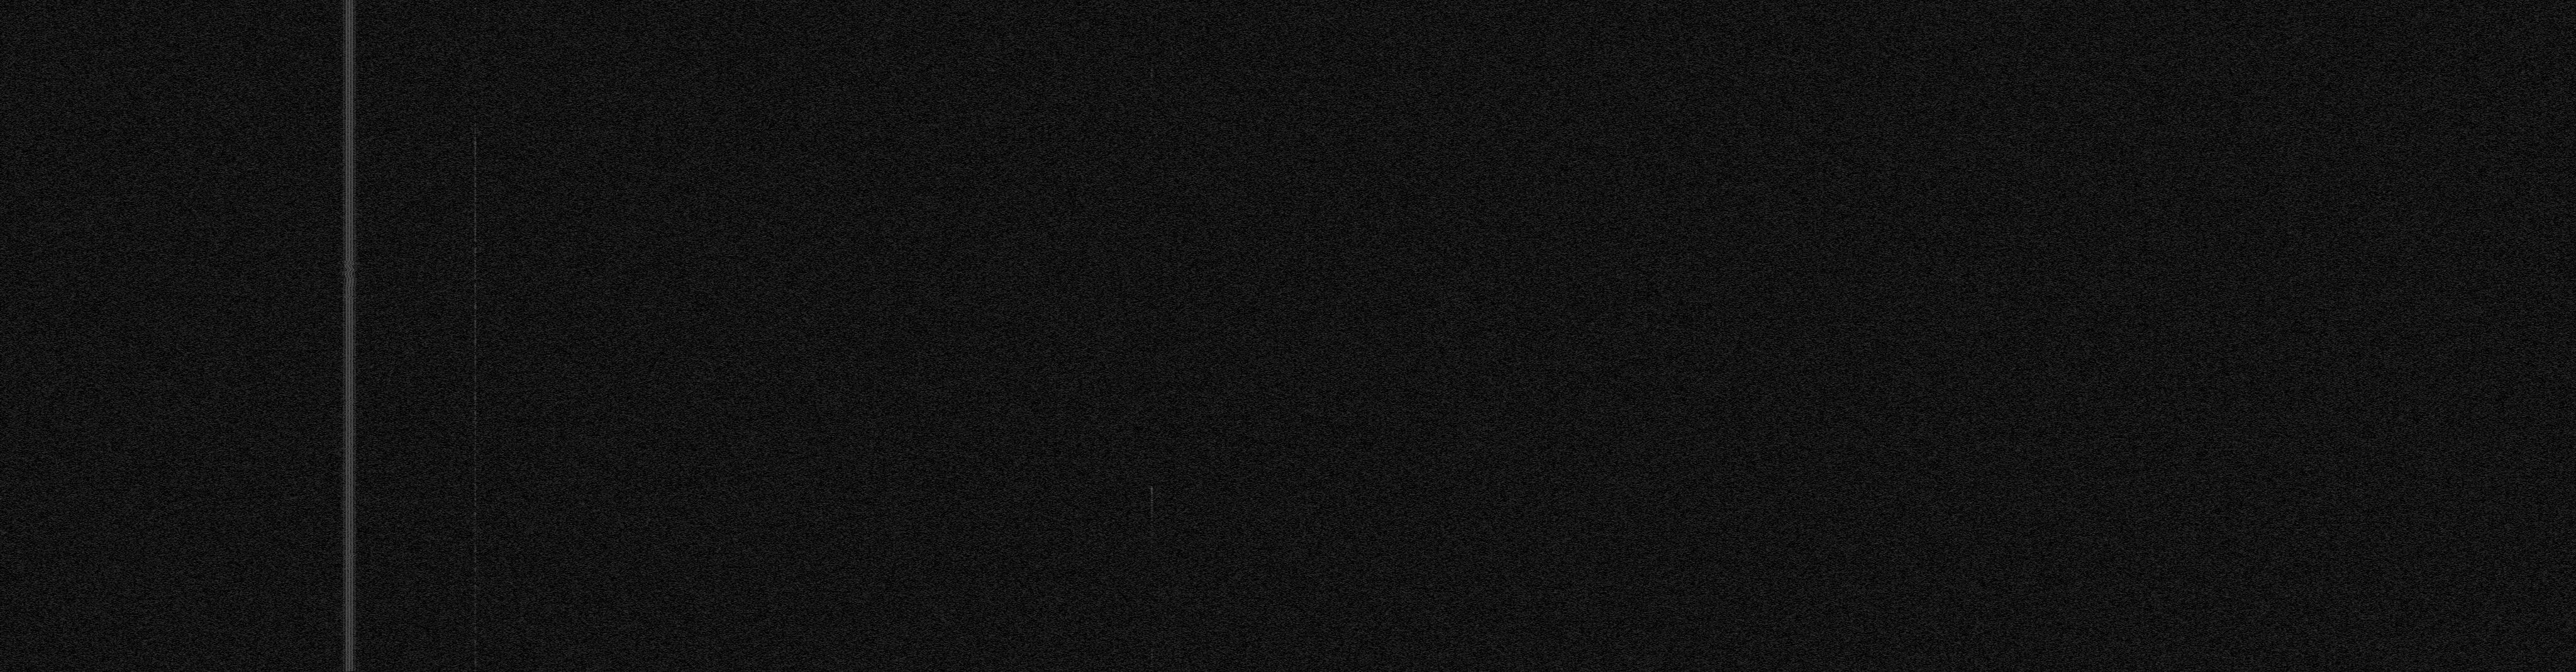wv_lsb: (473, 115, 476, 281), (473, 544, 476, 634), (473, 386, 476, 462), (1150, 473, 1153, 542), (473, 476, 476, 544), (473, 320, 476, 384), (473, 636, 476, 672), (473, 283, 476, 319), (1150, 85, 1153, 115), (1150, 646, 1153, 667), (1150, 66, 1153, 84), (473, 462, 476, 475), (1150, 554, 1153, 565), (473, 5, 476, 13), (1150, 542, 1153, 549), (475, 16, 476, 30), (1152, 168, 1153, 179), (1150, 667, 1153, 672), (1152, 54, 1153, 64), (475, 97, 476, 107), (475, 61, 476, 71), (1152, 199, 1153, 207), (1152, 115, 1153, 123), (475, 89, 476, 97), (475, 81, 476, 89), (475, 43, 476, 51), (475, 35, 476, 43), (1150, 550, 1153, 554), (1152, 288, 1153, 294), (1152, 255, 1153, 261), (1152, 235, 1153, 242), (1152, 217, 1153, 223), (1152, 35, 1153, 41), (1152, 16, 1153, 23), (475, 53, 476, 59), (1152, 455, 1153, 460), (1152, 435, 1153, 440), (1152, 381, 1153, 386), (1152, 309, 1153, 314), (1152, 248, 1153, 253), (1152, 600, 1153, 605), (1152, 194, 1153, 199), (1152, 181, 1153, 186), (1152, 148, 1153, 153), (1152, 591, 1153, 596), (1152, 41, 1153, 46), (475, 76, 476, 81), (1152, 421, 1153, 424), (1152, 401, 1153, 404), (1152, 365, 1153, 368), (1152, 345, 1153, 348), (1152, 320, 1153, 324), (1152, 297, 1153, 301), (1152, 273, 1153, 276), (1152, 266, 1153, 269), (1152, 223, 1153, 227), (1152, 187, 1153, 191), (1152, 163, 1153, 166), (1152, 158, 1153, 161), (1152, 140, 1153, 143), (1152, 133, 1153, 136), (1152, 30, 1153, 33), (1152, 23, 1153, 26), (1152, 588, 1153, 591), (1152, 7, 1153, 10), (1150, 565, 1153, 567), (1152, 419, 1153, 421), (1152, 412, 1153, 414), (1152, 315, 1153, 317), (1152, 296, 1153, 297), (1152, 278, 1153, 279), (1152, 614, 1153, 616), (1152, 243, 1153, 245), (1152, 232, 1153, 233), (1152, 145, 1153, 146), (1152, 131, 1153, 133), (1152, 127, 1153, 128), (1152, 580, 1153, 582), (475, 71, 476, 72), (1152, 577, 1153, 578), (475, 13, 476, 15)
wv_wbfm: (337, 0, 361, 672)
